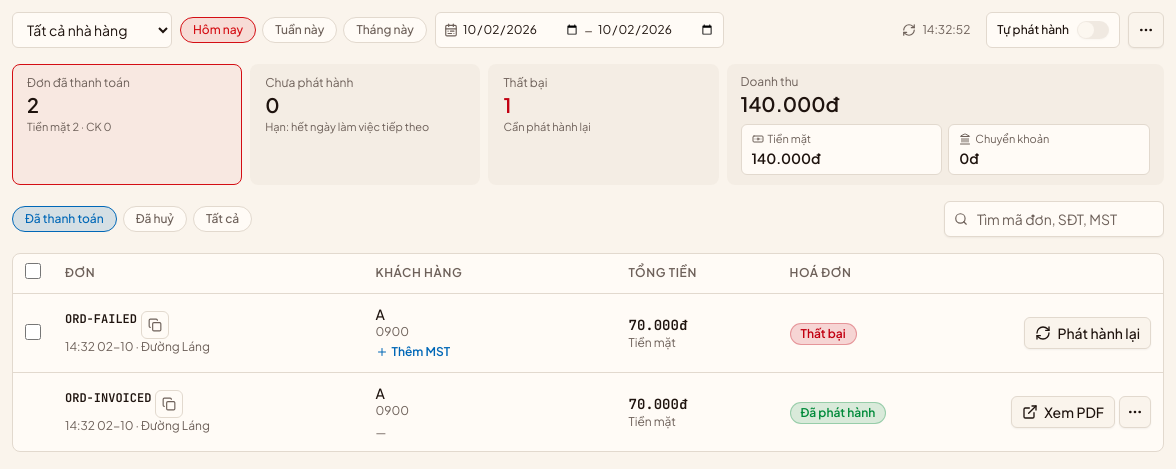
Test: AccountingPage failed-invoice display path › narrows the table to failed orders when the 'Thất bại' invoice filter is selected
Check: the text "ORD-FAILED" is shown, box [65, 311, 137, 327]
Click the button "Thất bại 1 Cần phát hành lại". click: (604, 124)
box: [488, 64, 719, 184]
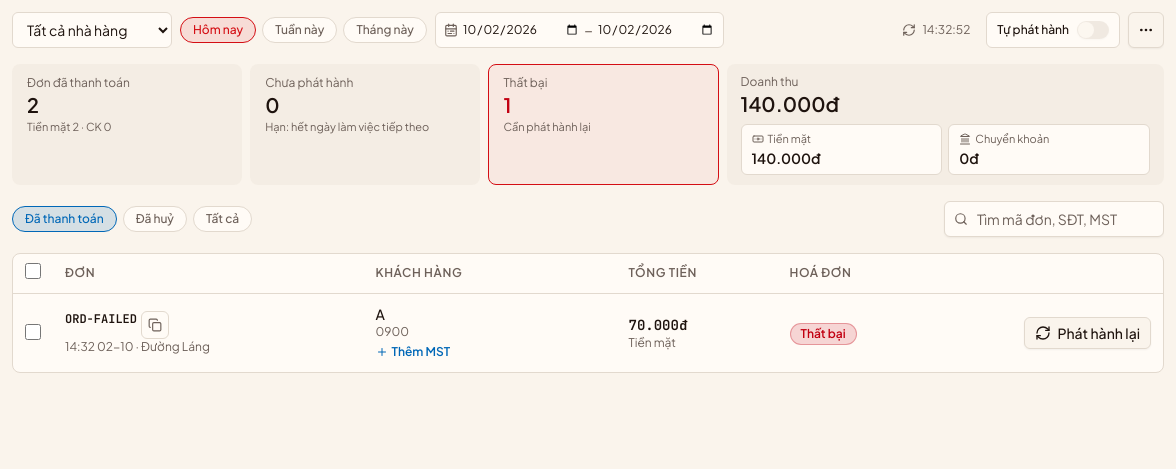
Check: the text "ORD-FAILED" is shown, box [65, 311, 137, 327]
Check: the text "ORD-INVOICED" is gone
